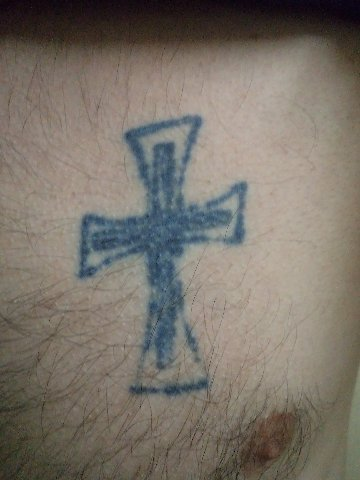tatu9_krest: (69, 115, 261, 396)
